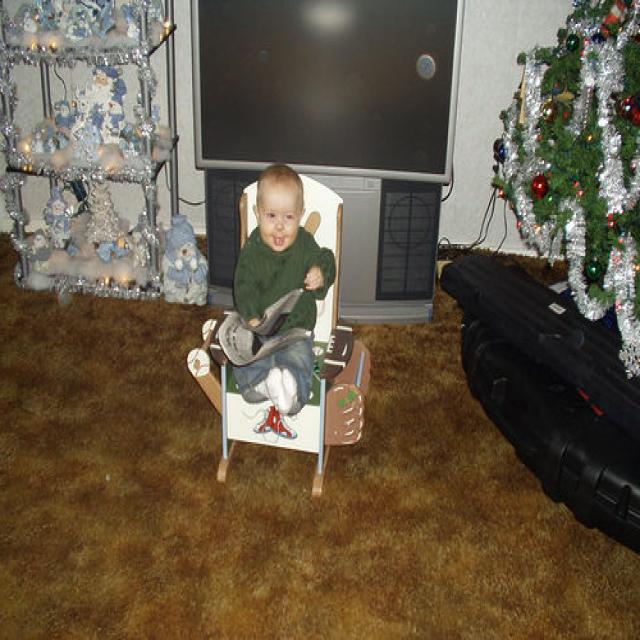child: (211, 162, 349, 420)
